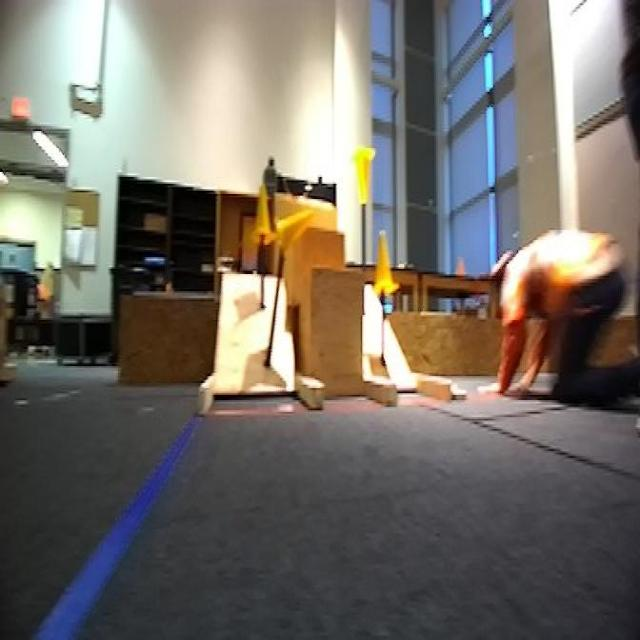frc_cone: (370, 221, 401, 298), (272, 202, 316, 255), (349, 145, 378, 209), (250, 182, 278, 244)
